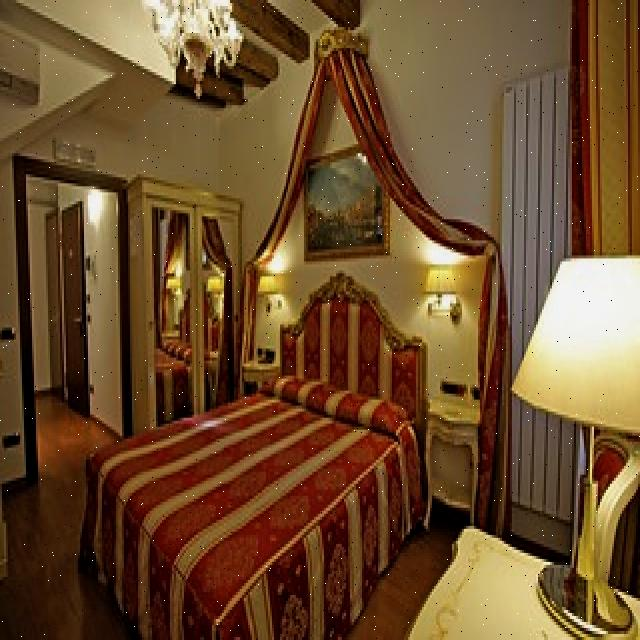bed: (77, 296, 423, 640)
